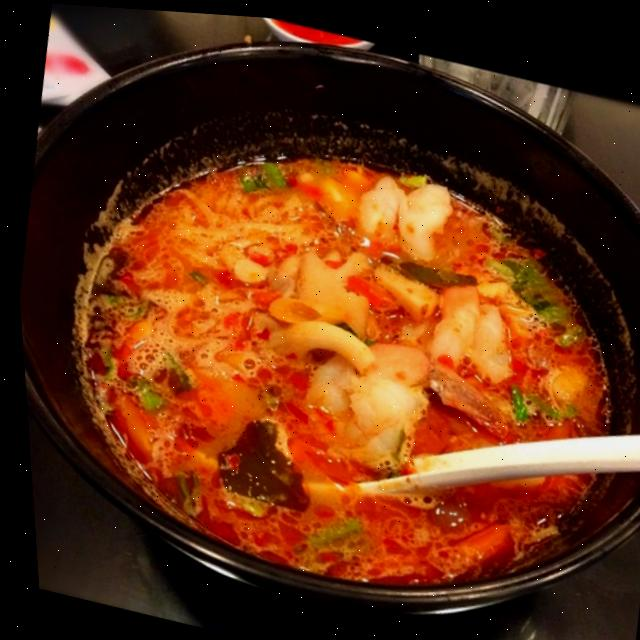汤锅炖物: (67, 108, 601, 590)
